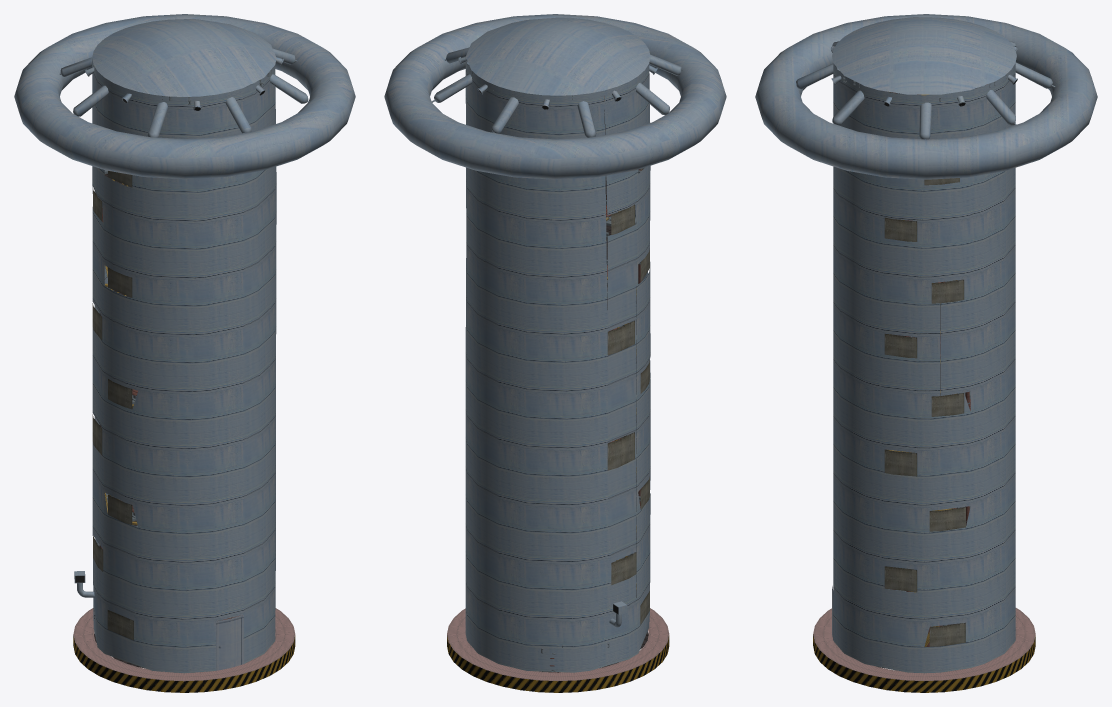
Rendered from generator-5400kv-low-20261015.glb.
The picture shows the model from 3 angles, left to right: view 1: azimuth 30°, elevation 25°; view 2: azimuth 150°, elevation 25°; view 3: azimuth 270°, elevation 25°; orthographic projection.
Parts seen in each view (by area): view 1: 5400kV冲击电压发生器WK_0003, 5400kV冲击电压发生器WK_0004, 5400kV冲击电压发生器WK_0002, 5400kV冲击电压发生器WK_0001; view 2: 5400kV冲击电压发生器WK_0003, 5400kV冲击电压发生器WK_0004, 5400kV冲击电压发生器WK_0002, 5400kV冲击电压发生器WK_0001; view 3: 5400kV冲击电压发生器WK_0003, 5400kV冲击电压发生器WK_0004, 5400kV冲击电压发生器WK_0002, 5400kV冲击电压发生器WK_0001.
Boxes of the visible parts, x1,y1,x2,y2 form: 5400kV冲击电压发生器WK_0003: (92,21,276,673); 5400kV冲击电压发生器WK_0004: (14,14,355,179); 5400kV冲击电压发生器WK_0002: (92,19,276,96); 5400kV冲击电压发生器WK_0001: (73,608,295,692); 5400kV冲击电压发生器WK_0003: (465,57,650,672); 5400kV冲击电压发生器WK_0004: (384,14,726,179); 5400kV冲击电压发生器WK_0002: (465,17,650,95); 5400kV冲击电压发生器WK_0001: (447,608,669,692); 5400kV冲击电压发生器WK_0003: (832,63,1015,673); 5400kV冲击电压发生器WK_0004: (755,14,1097,179); 5400kV冲击电压发生器WK_0002: (832,17,1016,94); 5400kV冲击电压发生器WK_0001: (813,608,1035,692).
Bounding box in the file's own units: 11.27 × 22.34 × 11.27.
20 materials, 20 textured.
